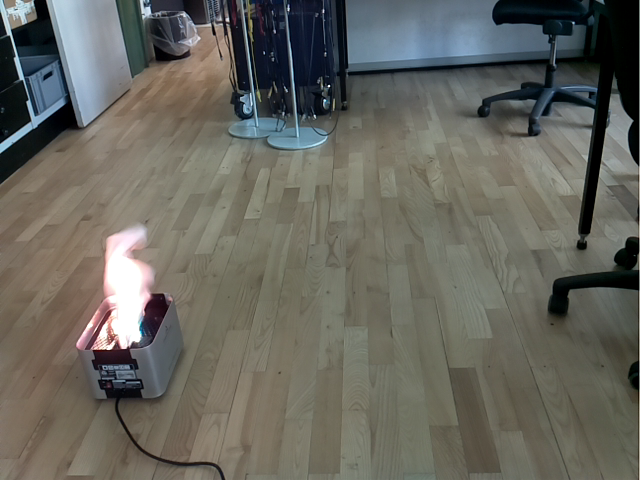fire: (102, 223, 153, 349)
